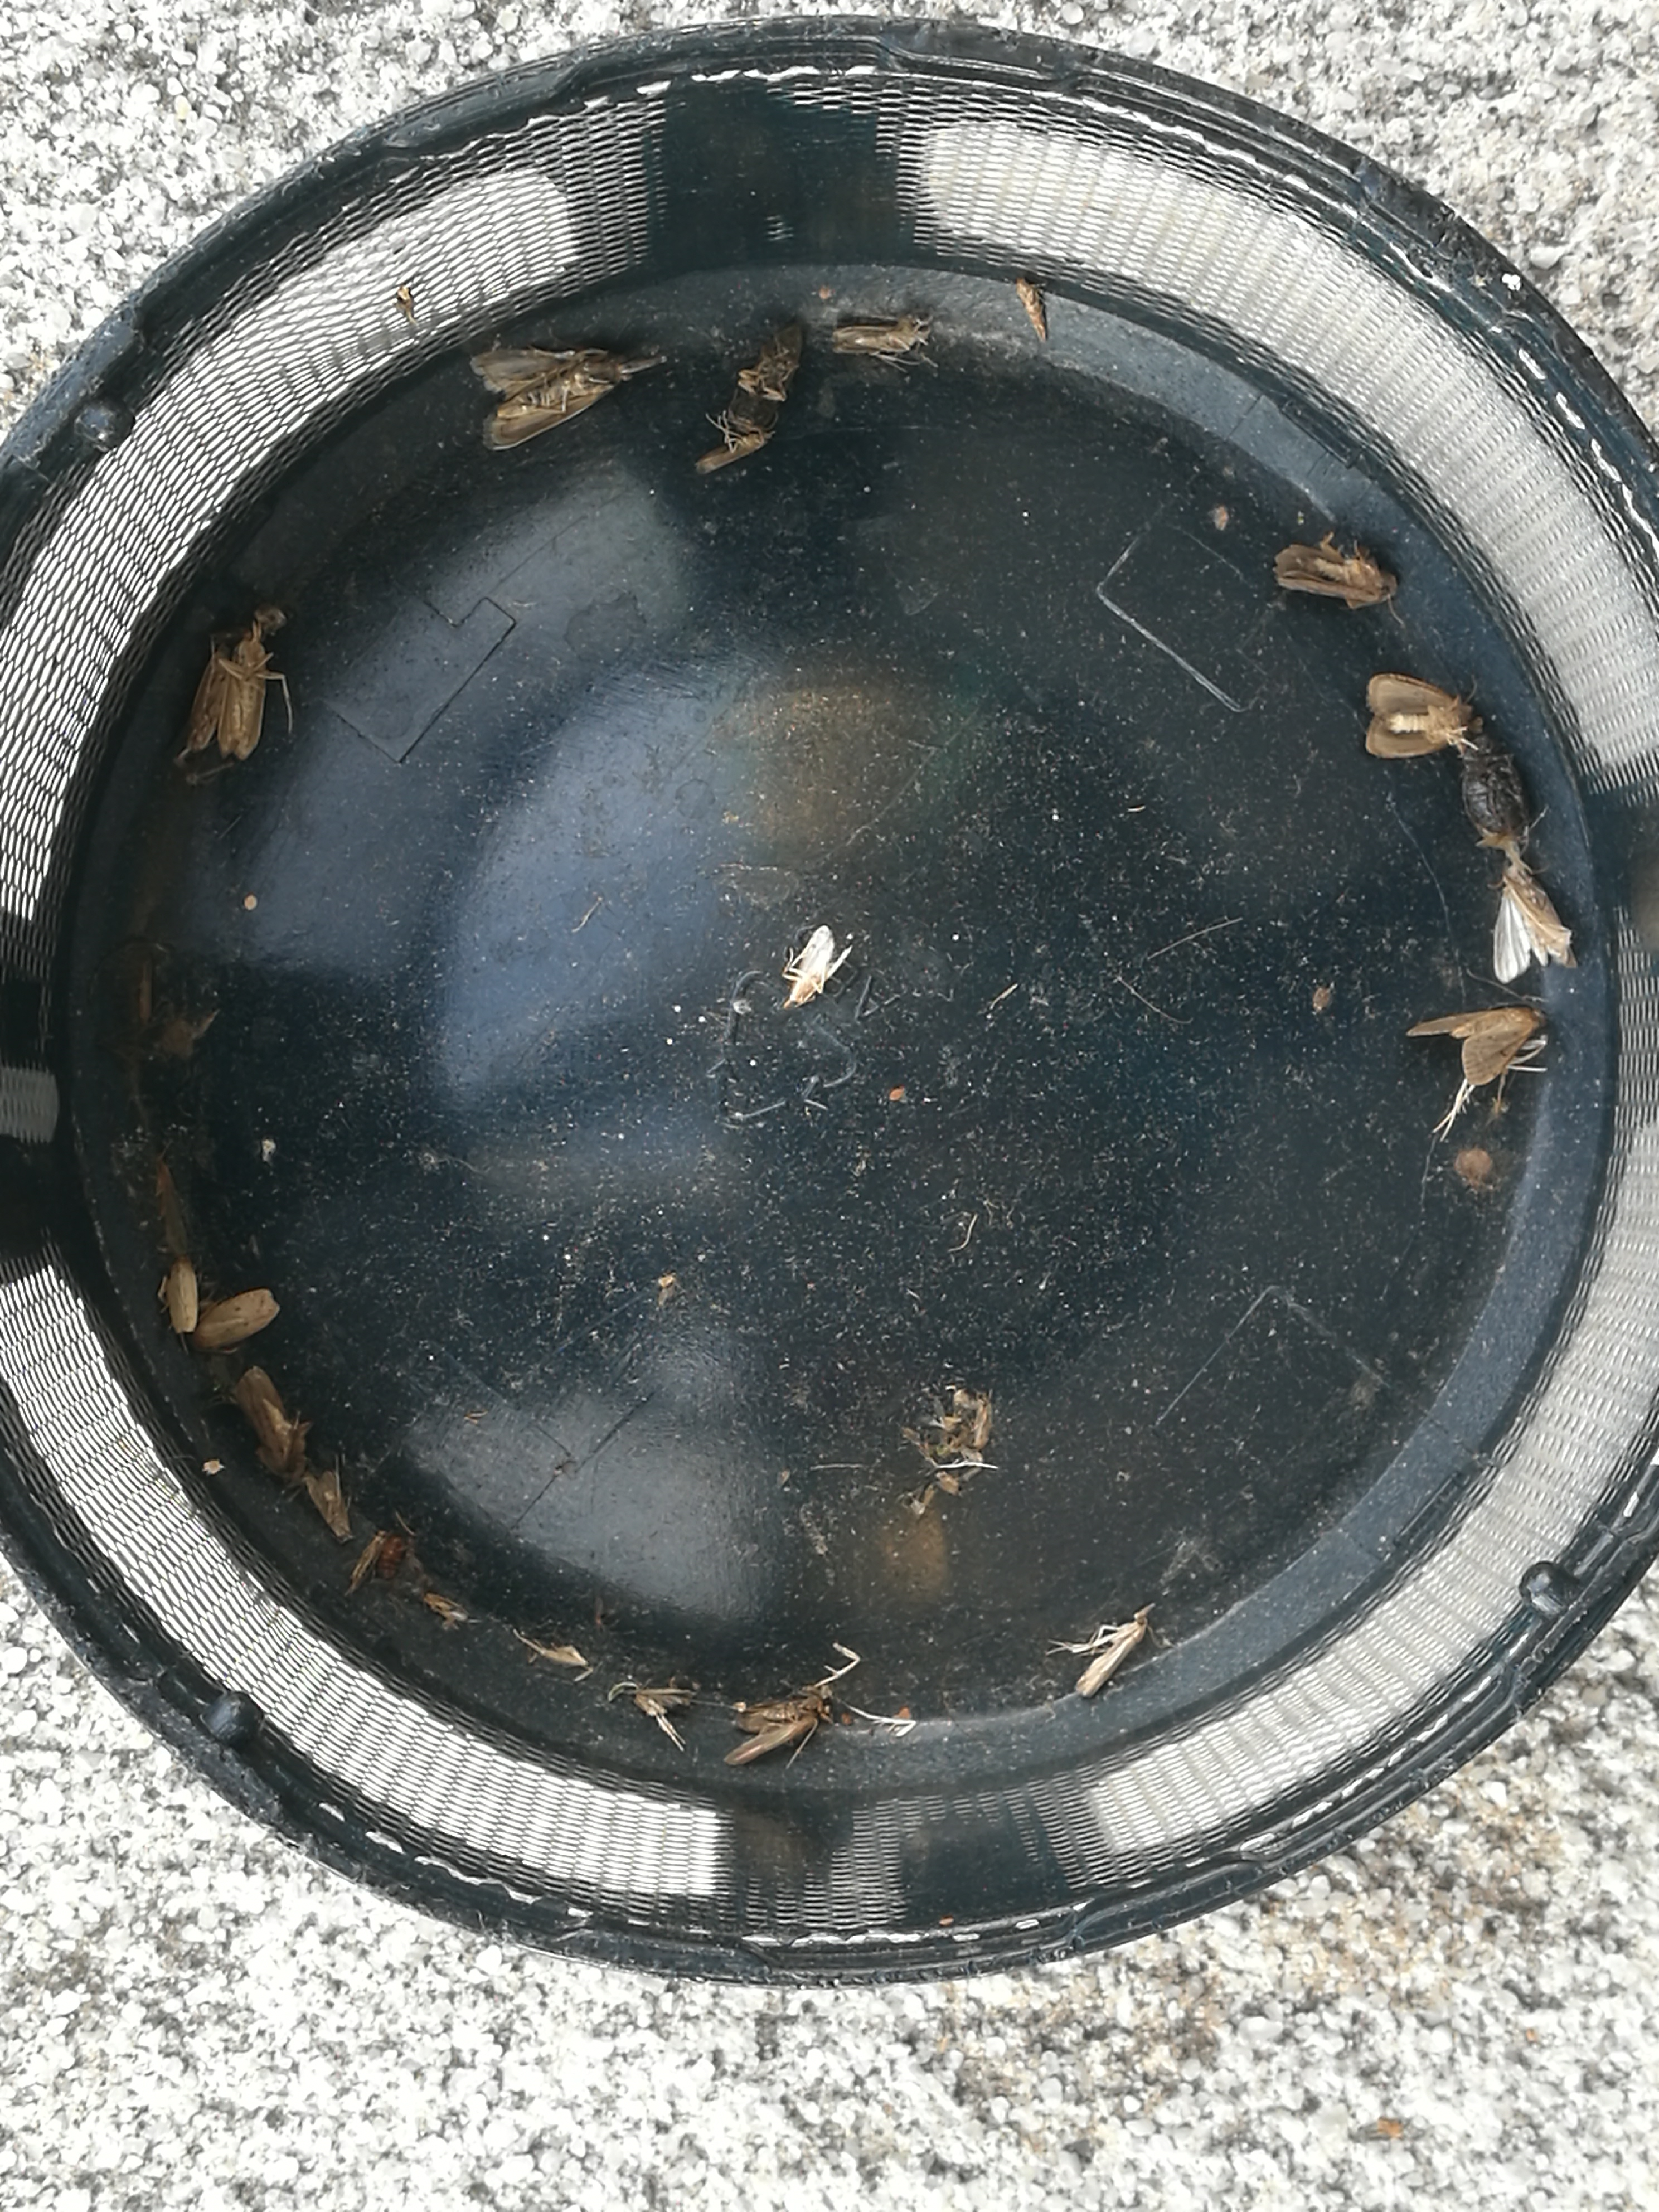mosquito: (727, 1688, 829, 1764), (1075, 1616, 1147, 1700), (791, 927, 835, 1005), (305, 1472, 352, 1543), (153, 1155, 186, 1254), (695, 428, 770, 472), (835, 326, 924, 354), (169, 1259, 197, 1334), (1018, 279, 1044, 343)
moth: (467, 352, 622, 451), (1493, 843, 1579, 982), (1408, 1005, 1547, 1083), (1368, 674, 1485, 758), (240, 1366, 305, 1484), (1274, 547, 1398, 604), (218, 637, 267, 761), (197, 1287, 281, 1348)
